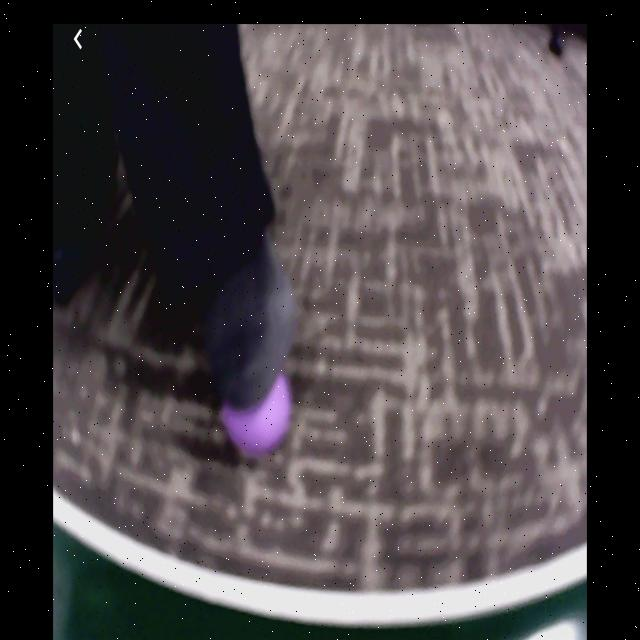ball: (220, 371, 294, 460)
